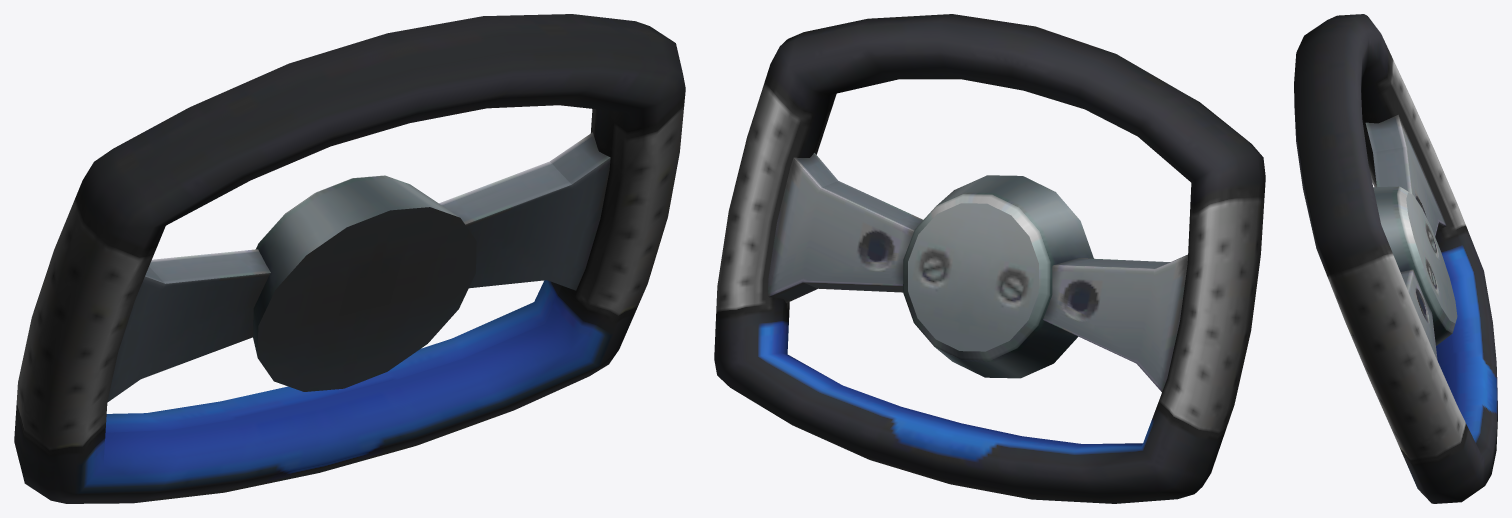
The model's file is steeringWheel.fbx.
3 views of the same model, side by side, from view 1: azimuth 30°, elevation 25°; view 2: azimuth 150°, elevation 25°; view 3: azimuth 270°, elevation 25° (orthographic). The views are drawn at different scales.
Parts seen in each view (by area): view 1: r_0128.002; view 2: r_0128.002; view 3: r_0128.002.
Part boxes in pixels (x1,y1,x2,y2): r_0128.002: (14,14,685,503); r_0128.002: (714,14,1265,503); r_0128.002: (1294,14,1497,503).
Bounding box in the file's own units: 52.85 × 39.9 × 19.81.
Materials: 1 (1 with a texture image).
